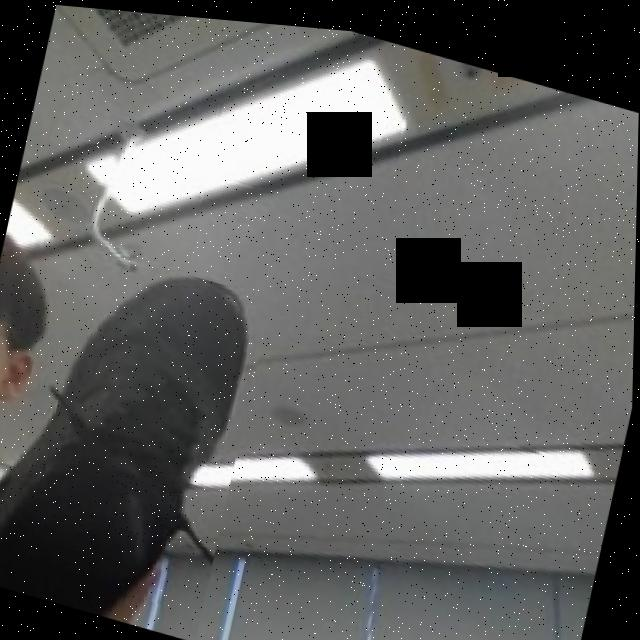shoe: (0, 194, 279, 640)
